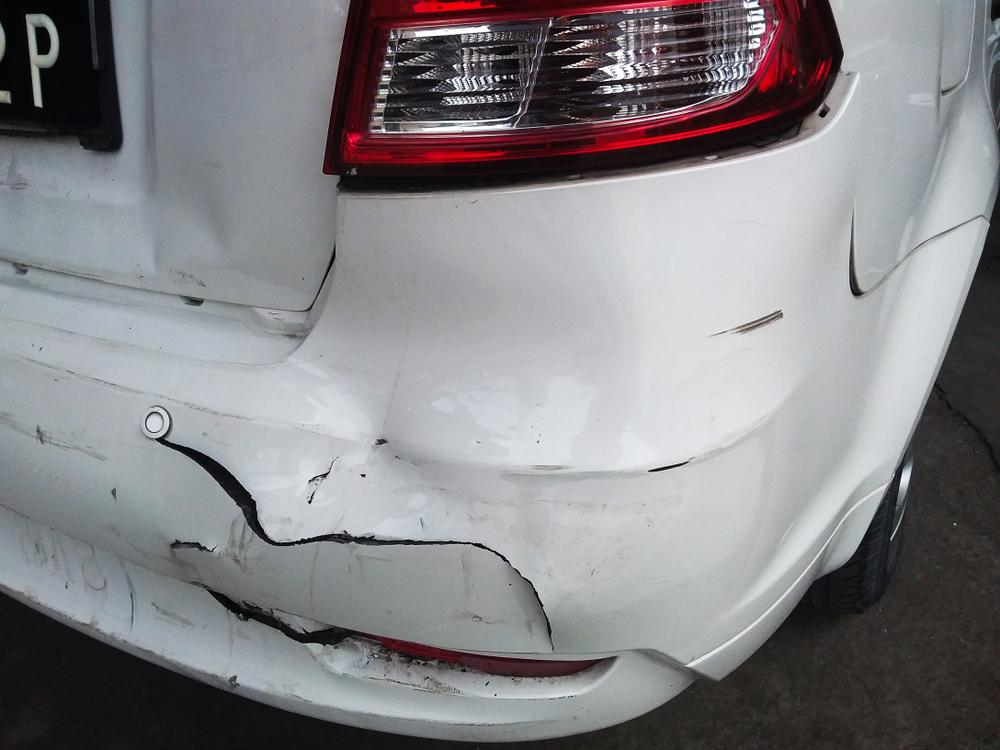crack: (156, 437, 554, 657), (199, 584, 363, 648), (167, 539, 219, 554)
dent: (260, 253, 636, 546), (122, 143, 233, 271)
scratch: (0, 315, 252, 462), (709, 307, 787, 340), (645, 458, 694, 475)
